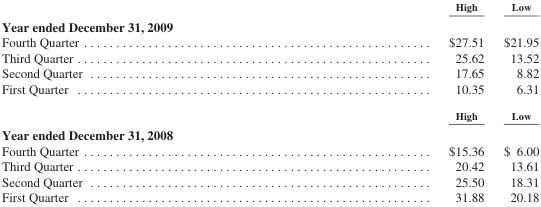table: (0, 0, 538, 204)
table column: (0, 0, 264, 204), (264, 0, 493, 204), (493, 0, 538, 204)
table column header: (0, 0, 538, 15)
table projected row header: (0, 15, 538, 34), (0, 124, 538, 142)
table row: (0, 80, 538, 102), (0, 102, 538, 124), (0, 15, 538, 34), (0, 124, 538, 142), (0, 49, 538, 65), (0, 142, 538, 158), (0, 173, 538, 189), (0, 0, 538, 15), (0, 34, 538, 49), (0, 65, 538, 80), (0, 158, 538, 173), (0, 189, 538, 204)
